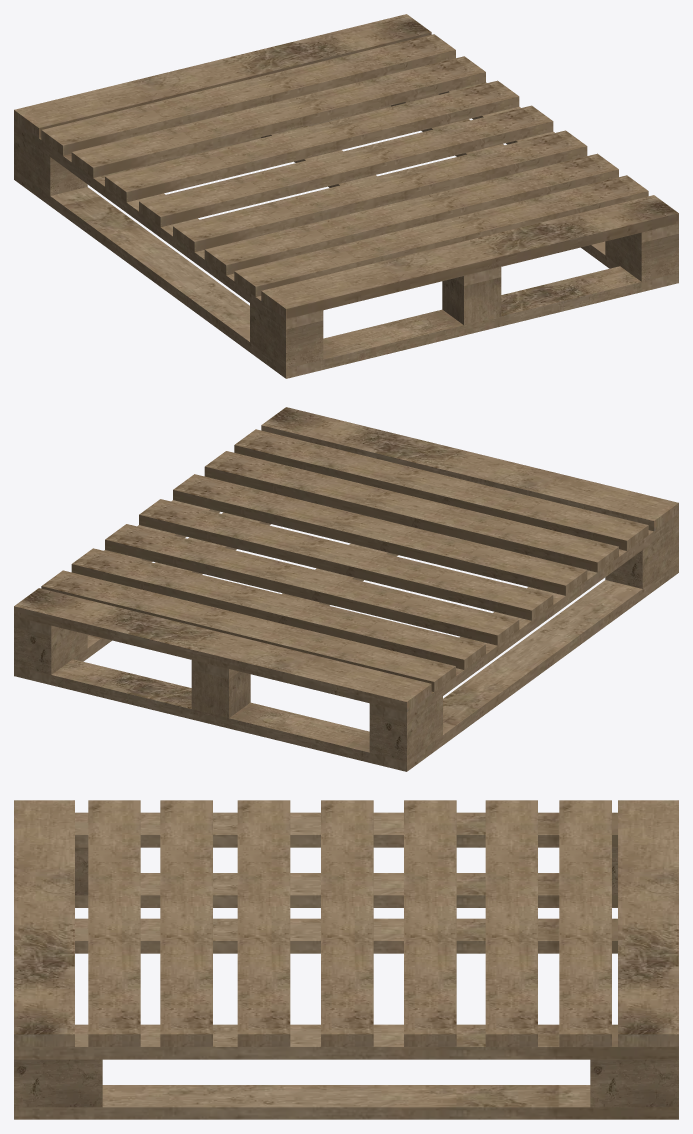
Rendered from pallet-euro.glb.
3 renders of one model, top to bottom at view 1: azimuth 30°, elevation 25°; view 2: azimuth 150°, elevation 25°; view 3: azimuth 270°, elevation 25°, orthographic. The views are drawn at different scales.
Visible parts, largest first — view 1: poddon1.009, poddon1.012, poddon1.013, poddon1.014, poddon1.011, poddon1.015, poddon1.010, poddon1.001, poddon1.002, poddon1.016, poddon1.022, poddon1.003 (+7 smaller); view 2: poddon1.001, poddon1.011, poddon1.013, poddon1.012, poddon1.010, poddon1.009, poddon1.014, poddon1.002, poddon1.016, poddon1.015, poddon1.018, poddon1.003 (+7 smaller); view 3: poddon1.017, poddon1.009, poddon1.001, poddon1.011, poddon1.002, poddon1.010, poddon1.012, poddon1.013, poddon1.014, poddon1.015, poddon1.007, poddon1.008 (+5 smaller).
Boxes of the visible parts, bbox=[...] form: poddon1.009: bbox=[261, 195, 678, 319]; poddon1.012: bbox=[139, 105, 553, 227]; poddon1.013: bbox=[105, 80, 519, 202]; poddon1.014: bbox=[71, 56, 485, 177]; poddon1.011: bbox=[173, 130, 587, 252]; poddon1.015: bbox=[41, 34, 455, 155]; poddon1.010: bbox=[204, 153, 618, 275]; poddon1.001: bbox=[14, 14, 431, 138]; poddon1.002: bbox=[234, 175, 648, 296]; poddon1.016: bbox=[14, 170, 323, 378]; poddon1.022: bbox=[323, 266, 641, 369]; poddon1.003: bbox=[14, 120, 323, 329]; poddon1.001: bbox=[14, 588, 431, 712]; poddon1.011: bbox=[173, 474, 587, 595]; poddon1.013: bbox=[105, 524, 519, 645]; poddon1.012: bbox=[139, 499, 553, 620]; poddon1.010: bbox=[204, 451, 618, 572]; poddon1.009: bbox=[261, 407, 678, 531]; poddon1.014: bbox=[71, 548, 485, 669]; poddon1.002: bbox=[234, 429, 648, 550]; poddon1.016: bbox=[369, 563, 678, 771]; poddon1.015: bbox=[41, 570, 455, 691]; poddon1.018: bbox=[51, 659, 369, 762]; poddon1.003: bbox=[369, 513, 678, 722]; poddon1.017: bbox=[14, 1085, 678, 1119]; poddon1.009: bbox=[14, 800, 74, 1046]; poddon1.001: bbox=[618, 800, 678, 1046]; poddon1.011: bbox=[237, 800, 290, 1046]; poddon1.002: bbox=[88, 800, 140, 1046]; poddon1.010: bbox=[160, 800, 212, 1046]; poddon1.012: bbox=[321, 800, 373, 1046]; poddon1.013: bbox=[404, 800, 456, 1046]; poddon1.014: bbox=[485, 800, 537, 1046]; poddon1.015: bbox=[559, 800, 611, 1046]; poddon1.007: bbox=[14, 1024, 678, 1059]; poddon1.008: bbox=[75, 918, 617, 953].
Size of the model in its own units: 0.8455 by 0.1438 by 1.01.
1 material, 1 textured.
